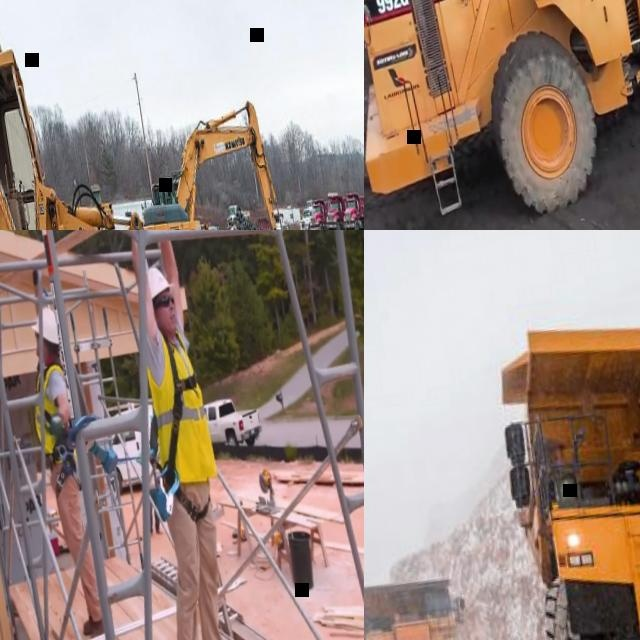Hardhat: (28, 306, 60, 348), (147, 264, 175, 300), (205, 225, 208, 228)
NO-Mask: (159, 309, 180, 336), (34, 341, 40, 356)
Person: (107, 230, 251, 640), (15, 265, 109, 640)
Safety Vest: (143, 331, 220, 489), (27, 362, 77, 466)
machinery: (364, 0, 640, 230), (486, 271, 640, 640), (0, 19, 250, 230), (109, 99, 297, 230), (364, 562, 479, 640), (323, 190, 352, 230), (340, 189, 364, 230), (306, 198, 333, 230), (225, 203, 252, 230), (296, 198, 318, 230), (256, 210, 290, 230)
vehicle: (105, 403, 165, 493), (203, 395, 264, 453), (199, 220, 226, 230)
